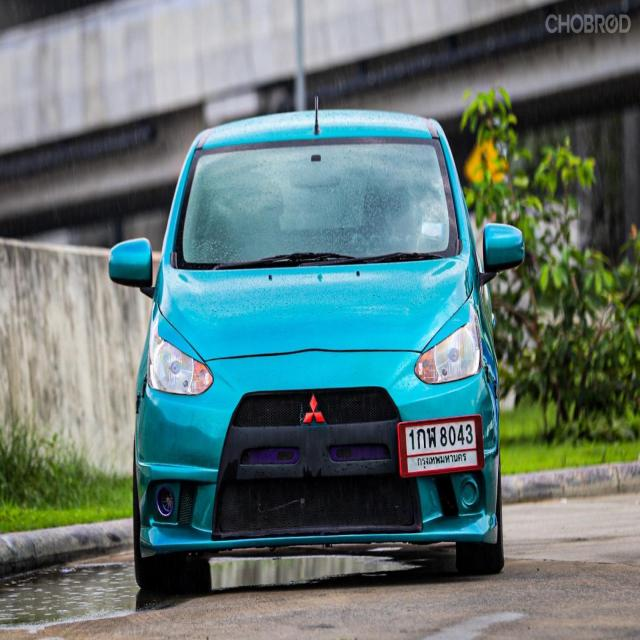license_plate: (400, 415, 482, 478)
